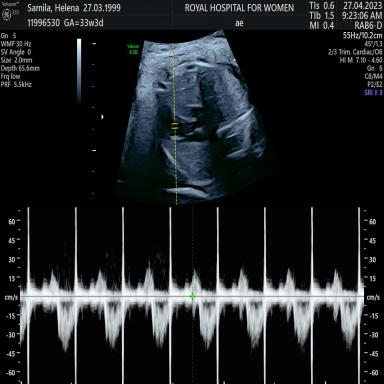Ultrasound-Waves: (22, 207, 361, 383)
